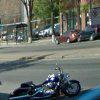Motorcycle: (11, 66, 85, 100)
